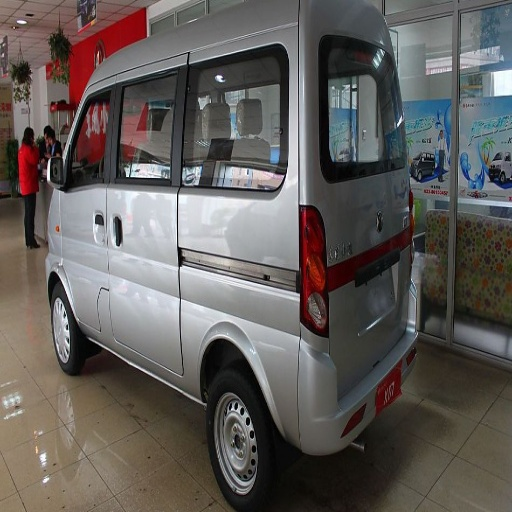back_left_light: (301, 262, 325, 335)
back_right_door: (71, 272, 108, 332)
trunk: (79, 169, 328, 427), (324, 239, 403, 392)
